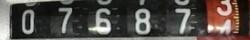digits: (210, 1, 242, 35), (87, 7, 111, 34), (134, 8, 152, 34), (174, 7, 191, 33), (58, 7, 72, 33), (21, 9, 35, 33)
